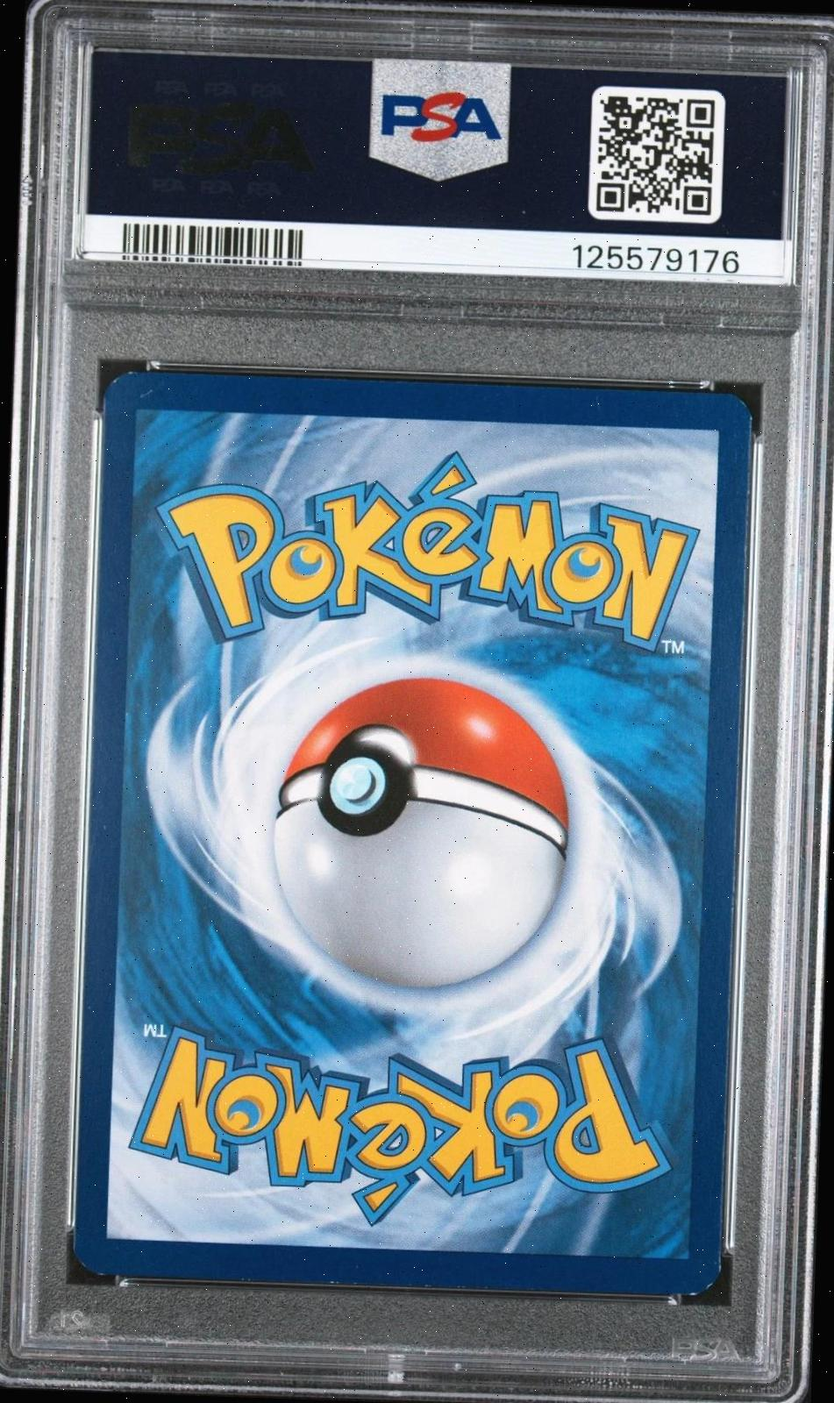card-2UtV: (72, 370, 752, 1296)
